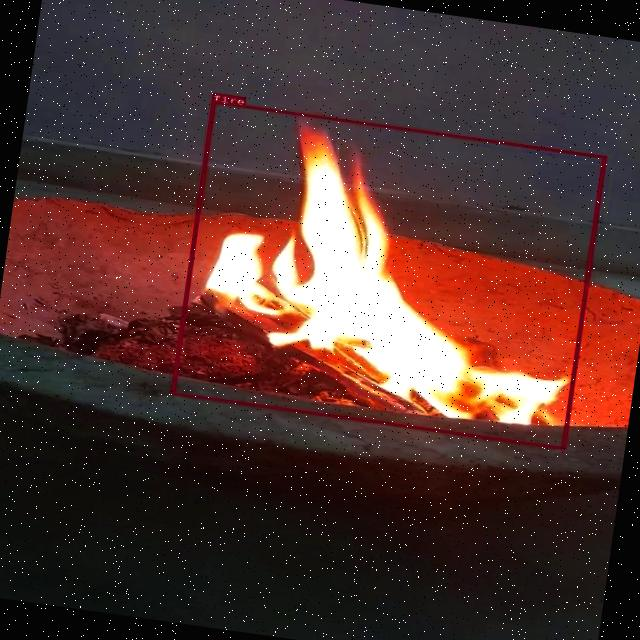fire: (170, 100, 606, 450)
